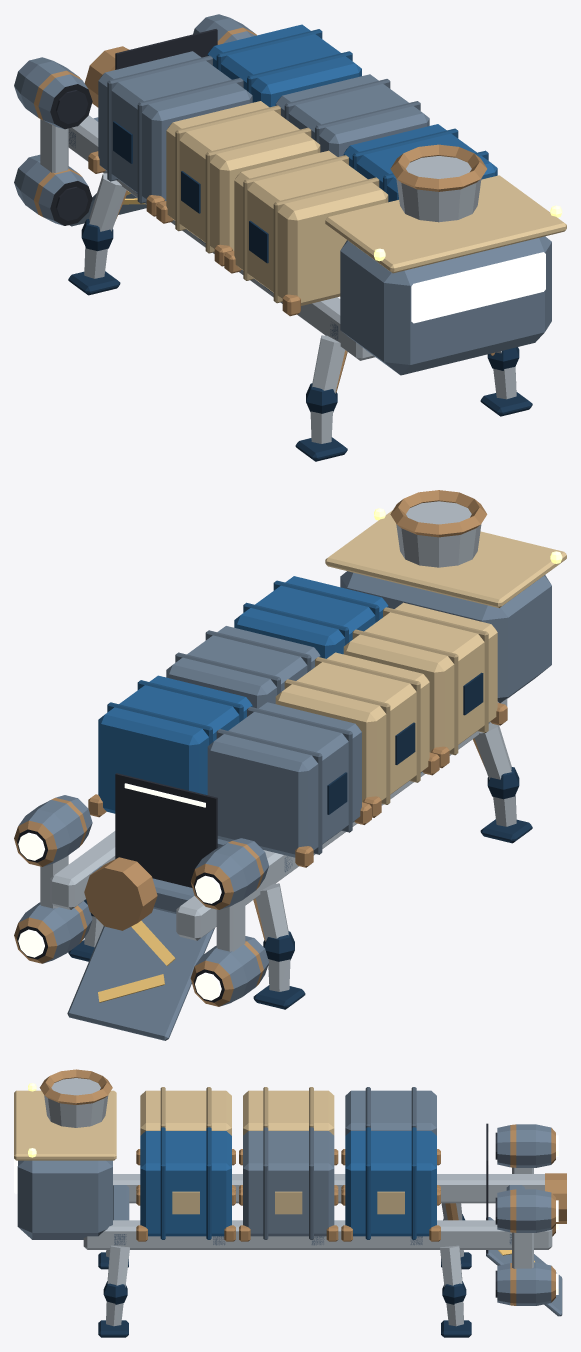
The model's file is rin-f_offen.glb.
3 renders of one model, top to bottom at view 1: azimuth 30°, elevation 25°; view 2: azimuth 150°, elevation 25°; view 3: azimuth 270°, elevation 25°, orthographic. The views are drawn at different scales.
Parts seen in each view (by area): view 1: cockpitmodul, container_2, container_4, container_6, container_5, container_3, andockkragen, triebwerk_2, container_1, triebwerk_4, landebein_2, landebein_4 (+7 smaller); view 2: container_6, cockpitmodul, container_2, container_4, container_5, rampe, laderaum, container_1, container_3, trägerrahmen, andockkragen, triebwerk_1 (+8 smaller); view 3: cockpitmodul, trägerrahmen, container_1, container_5, container_3, container_2, container_6, container_4, andockkragen, triebwerk_1, triebwerk_2, triebwerk_3 (+9 smaller).
Part boxes in pixels (<box>): cockpitmodul: <box>325,175,566,375</box>; container_2: <box>234,150,388,305</box>; container_4: <box>166,101,320,253</box>; container_6: <box>98,51,252,203</box>; container_5: <box>207,24,361,107</box>; container_3: <box>275,74,429,156</box>; andockkragen: <box>390,144,487,222</box>; triebwerk_2: <box>14,57,92,129</box>; container_1: <box>343,124,497,202</box>; triebwerk_4: <box>14,154,92,225</box>; landebein_2: <box>295,335,347,461</box>; landebein_4: <box>68,173,128,295</box>; container_6: <box>207,702,361,857</box>; cockpitmodul: <box>325,510,566,703</box>; container_2: <box>343,602,497,755</box>; container_4: <box>275,652,429,804</box>; container_5: <box>98,675,252,813</box>; rampe: <box>67,908,214,1040</box>; laderaum: <box>115,773,217,887</box>; container_1: <box>234,576,388,658</box>; container_3: <box>166,626,320,708</box>; trägerrahmen: <box>50,698,507,940</box>; andockkragen: <box>390,490,487,567</box>; triebwerk_1: <box>14,795,92,866</box>; cockpitmodul: <box>14,1090,116,1239</box>; trägerrahmen: <box>83,1174,552,1249</box>; container_1: <box>140,1127,231,1239</box>; container_5: <box>345,1127,436,1239</box>; container_3: <box>243,1127,334,1239</box>; container_2: <box>140,1087,231,1135</box>; container_6: <box>345,1087,436,1135</box>; container_4: <box>243,1087,334,1135</box>; andockkragen: <box>39,1069,112,1127</box>; triebwerk_1: <box>495,1189,558,1232</box>; triebwerk_2: <box>495,1124,558,1167</box>; triebwerk_3: <box>495,1262,558,1305</box>.
Size of the model in its own units: 0.0675 by 0.0815 by 0.1887.
